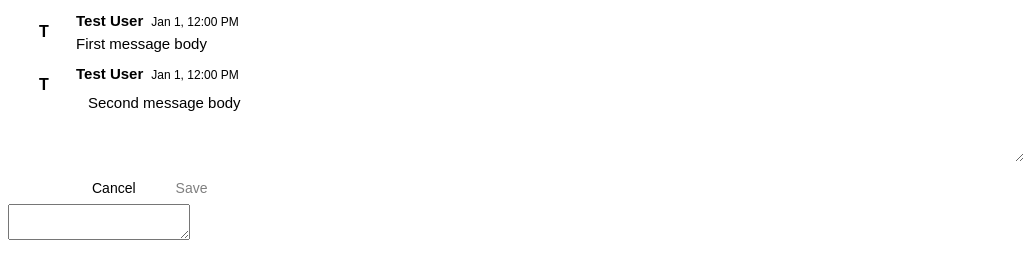
Test: Message edit box driven by chatStore.editingMessage (#1959) › #1959 Save clears the store and returns focus to the composer
Replace the text in the text box named "Edit message" with "Rewritten body". click: (550, 124)
box: [76,86,1024,162]
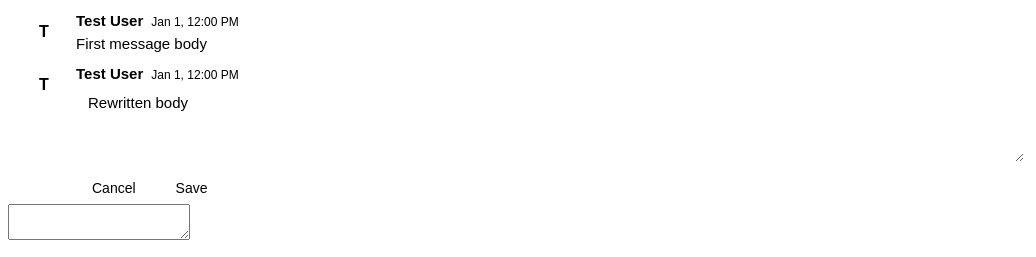
Press Enter in the text box named "Edit message", box [76,86,1024,162]
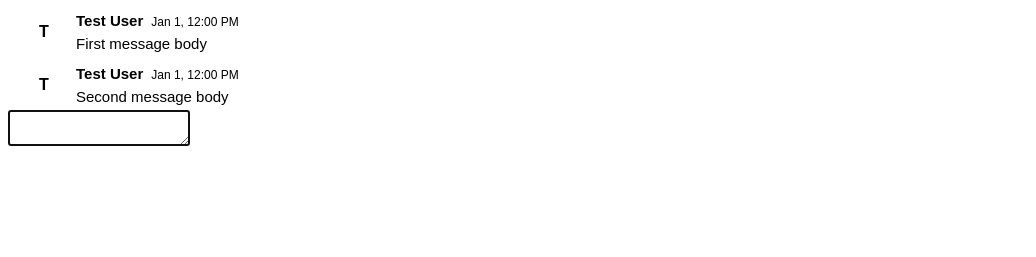
Check: no text boxes with class "message-edit-input" are shown
